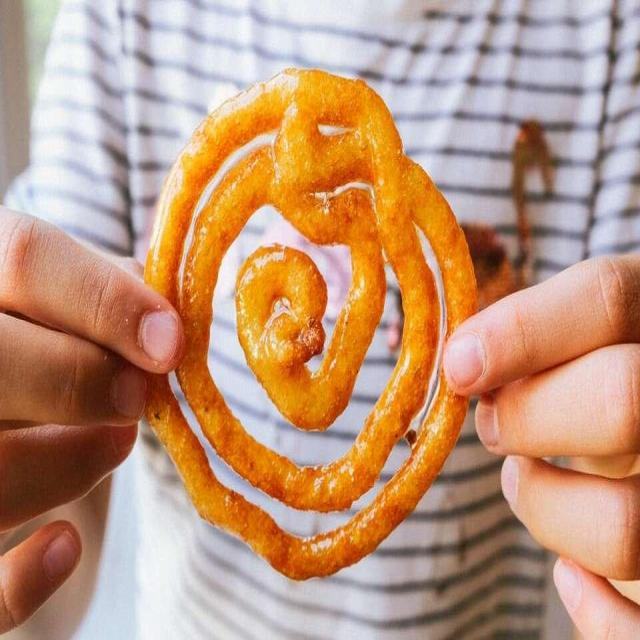jalebi: (142, 85, 476, 575)
